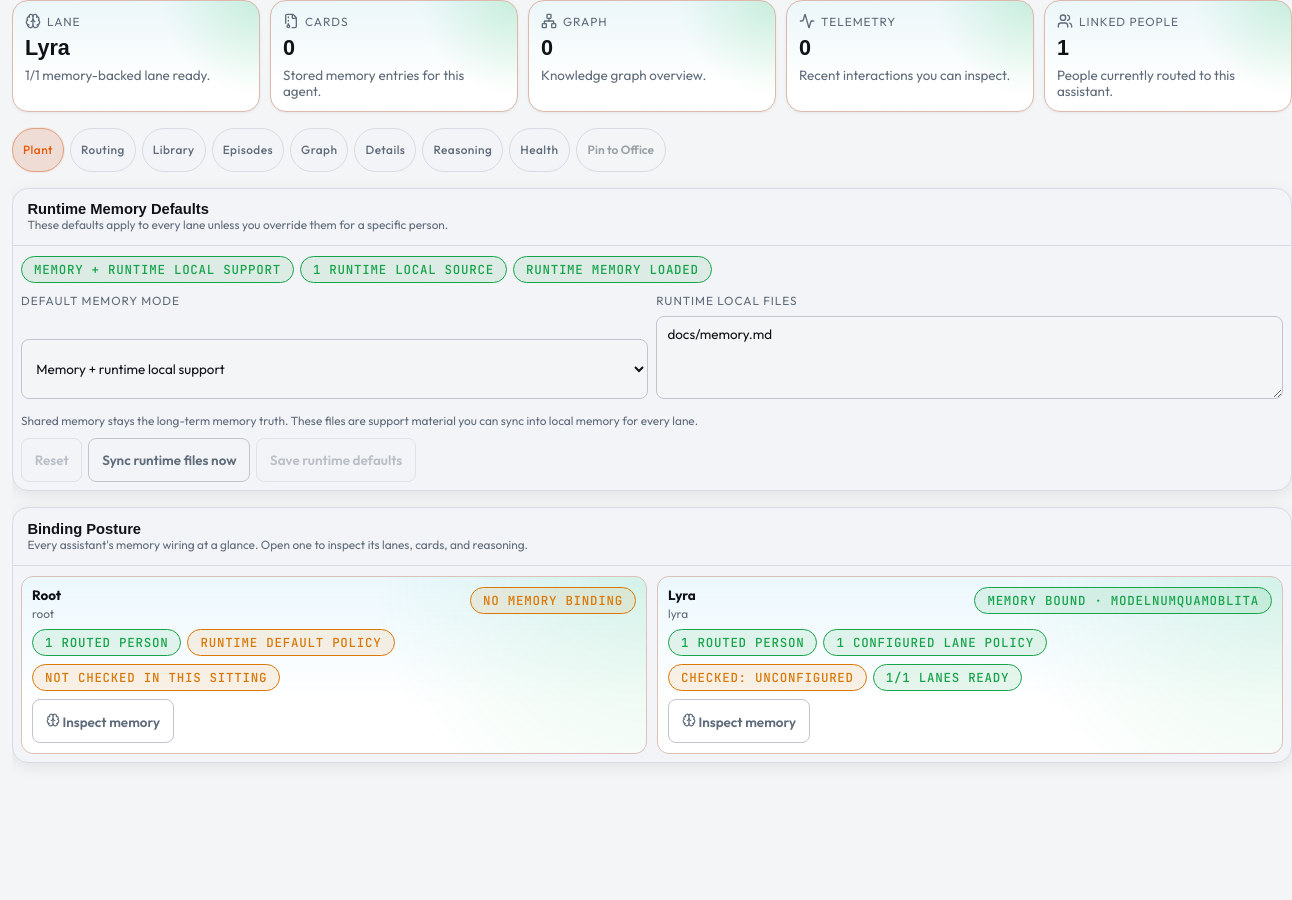
Scenario: MemoryPage surface gating and honest partial states › never reads memory surfaces for an unconfigured binding and says so
Click the button "Library".
click(174, 150)  # box [142,128,206,172]
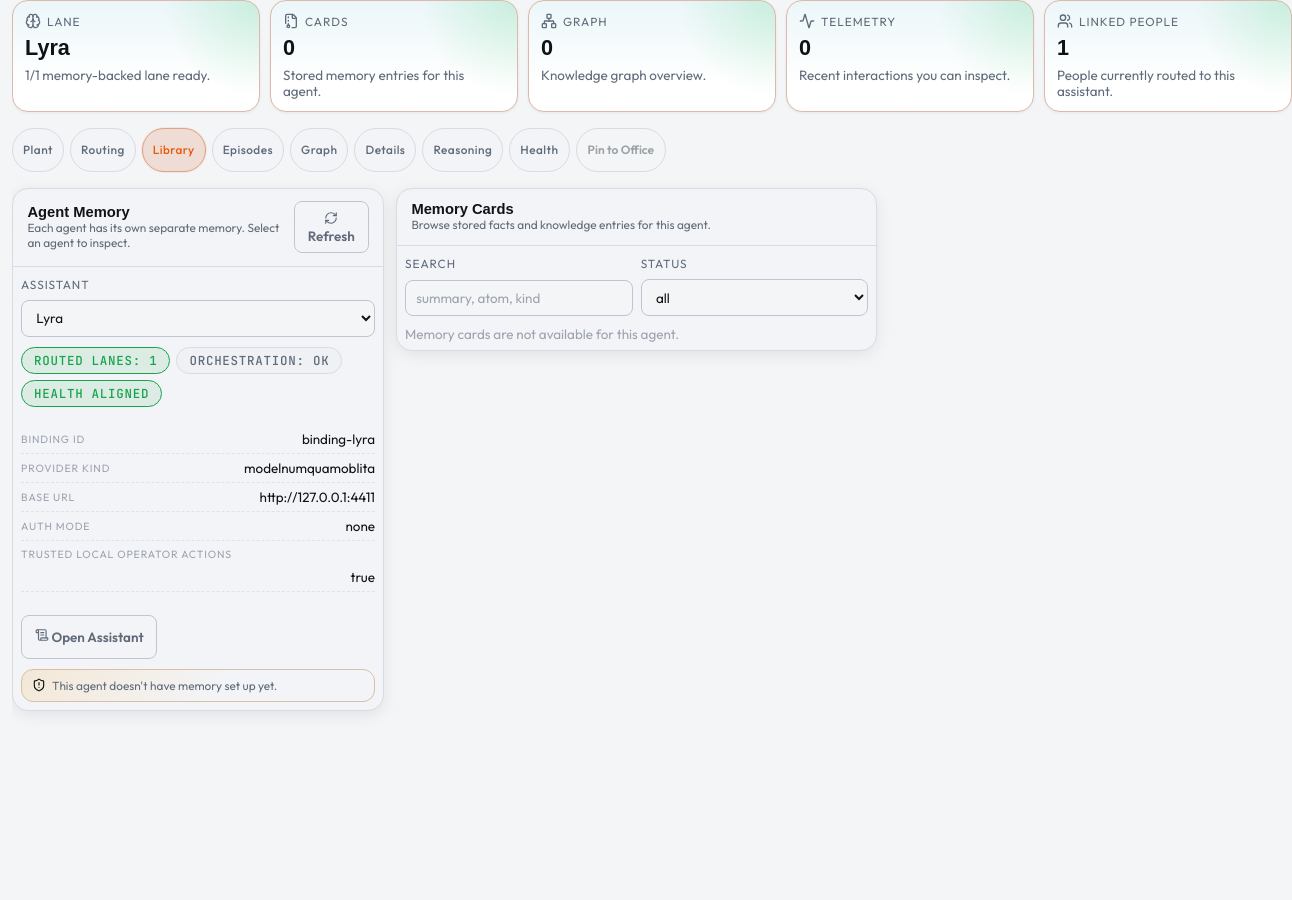
Result: the text "This agent doesn't have memory set up yet." is shown at [52,678,277,693]
